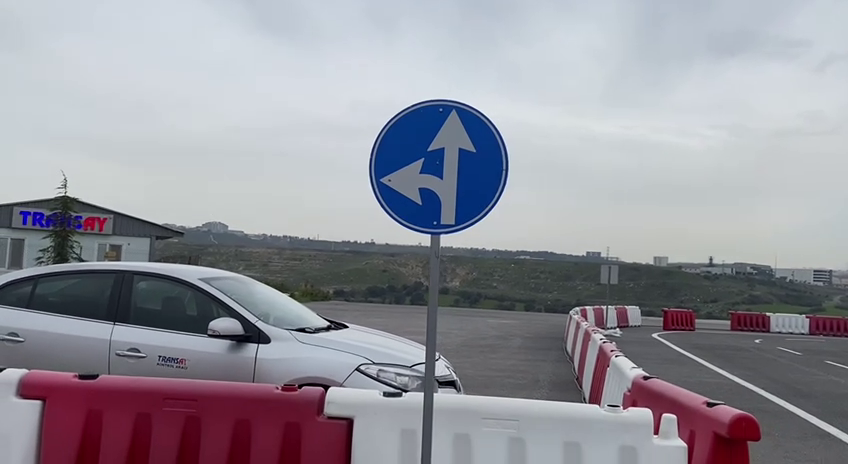forwardAndLeft: (366, 95, 518, 240)
